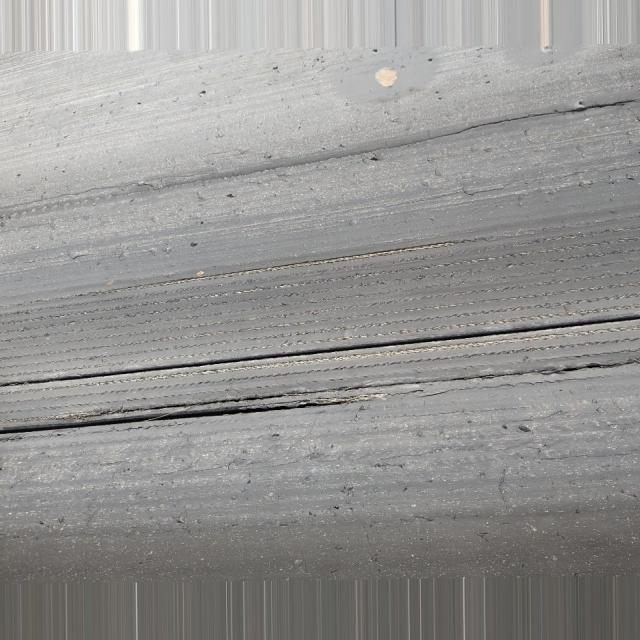Tear: (0, 308, 640, 392), (71, 352, 639, 420), (0, 396, 353, 440), (381, 93, 640, 151)
Wear: (0, 202, 640, 388)
